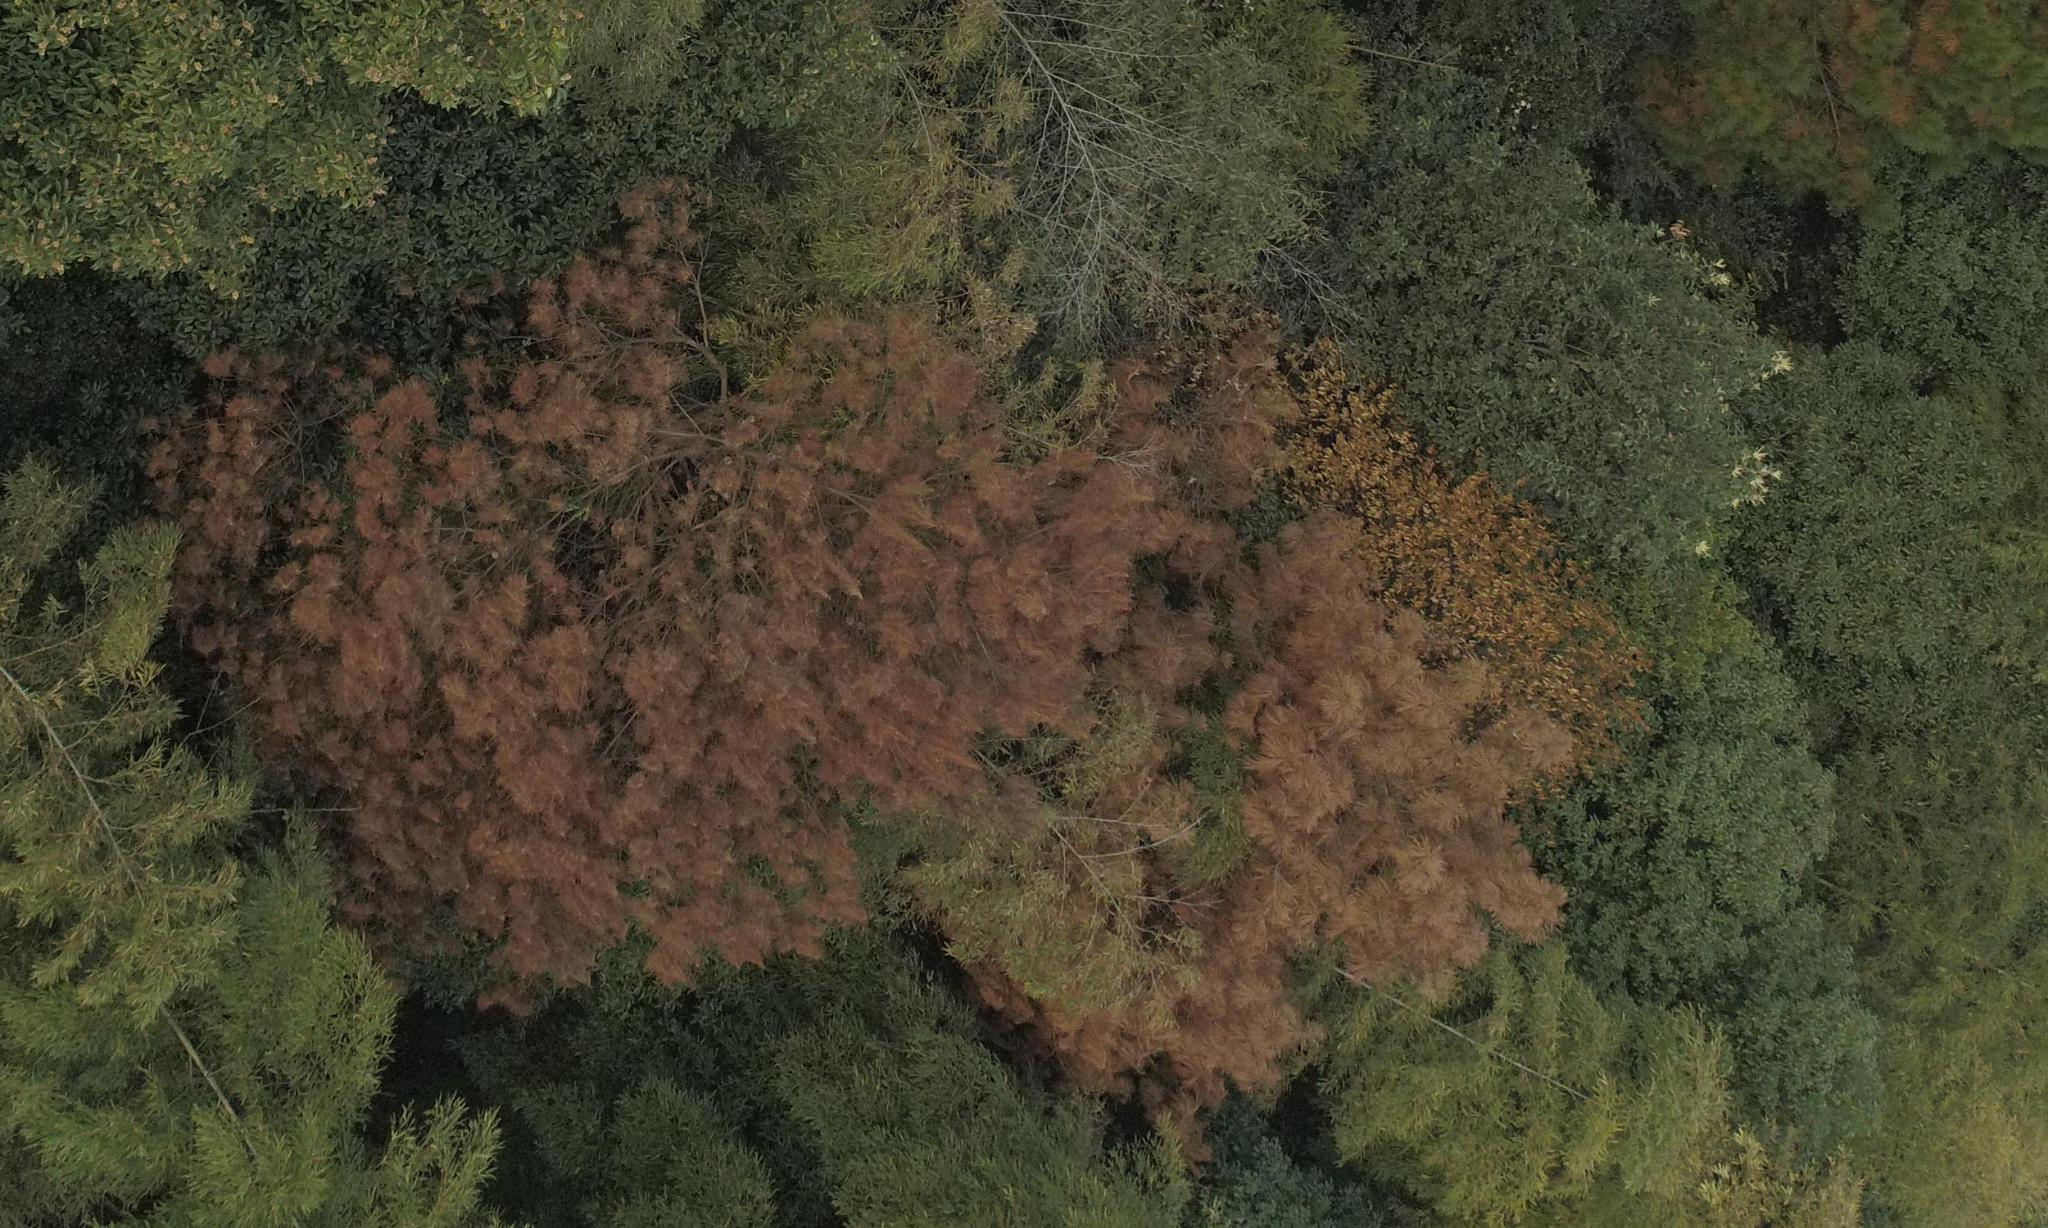heavy: (153, 270, 1091, 1009), (1159, 506, 1564, 1114)
